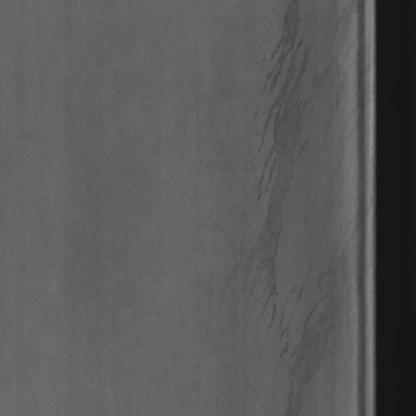water_spot: (241, 4, 313, 354), (289, 238, 358, 410)
